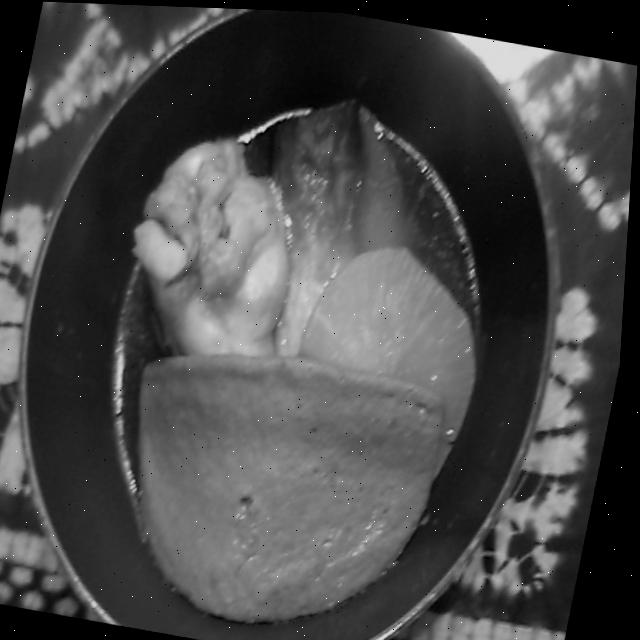汤锅炖物: (0, 148, 425, 640)
